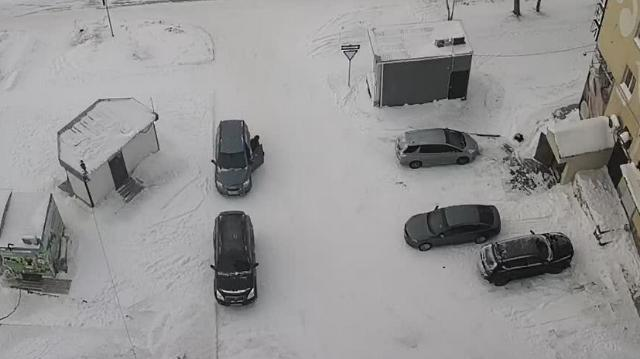non emergency car: (478, 230, 576, 289), (211, 213, 259, 310), (404, 206, 502, 253), (213, 120, 266, 198), (396, 129, 481, 171)
